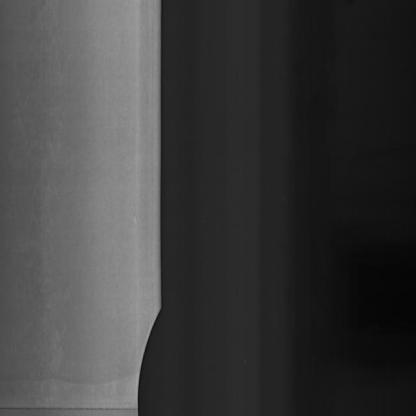crescent_gap: (129, 297, 170, 415)
